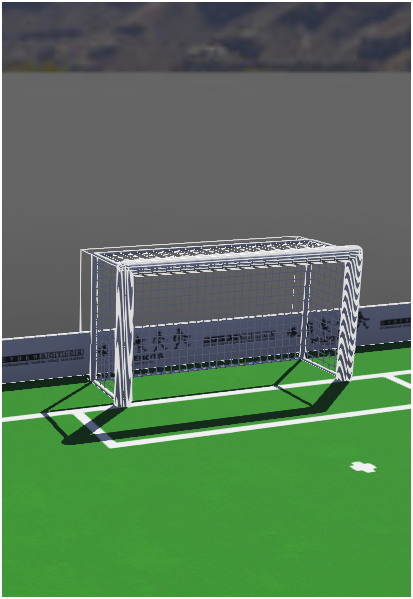Goal: (86, 207, 369, 449)
